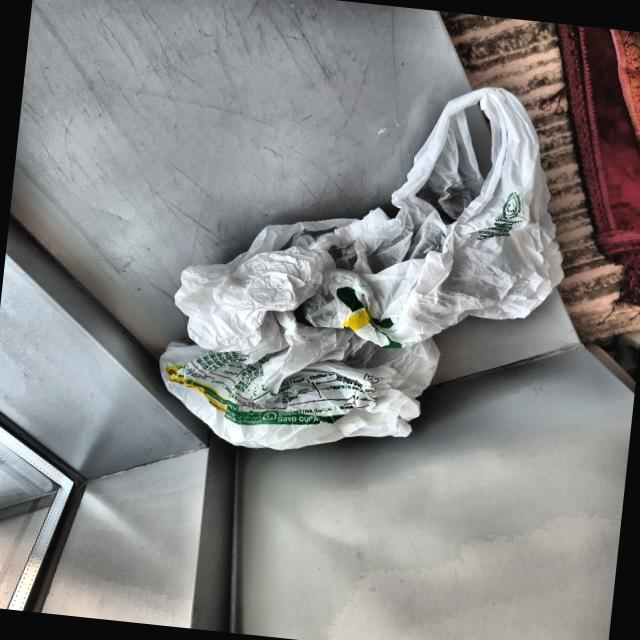plastic bag: (152, 53, 572, 480)
